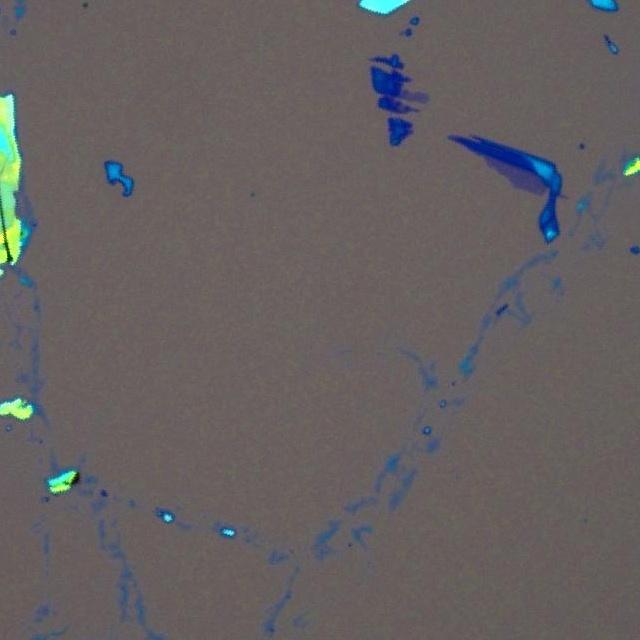monolayer-eWW4: (487, 156, 548, 196), (403, 89, 430, 104)
